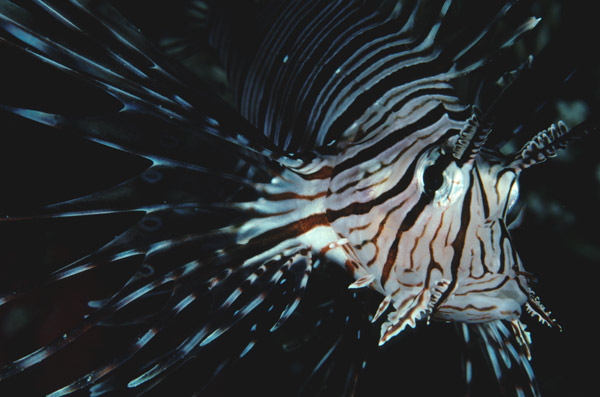Pterois_volitans: (97, 10, 562, 361)
